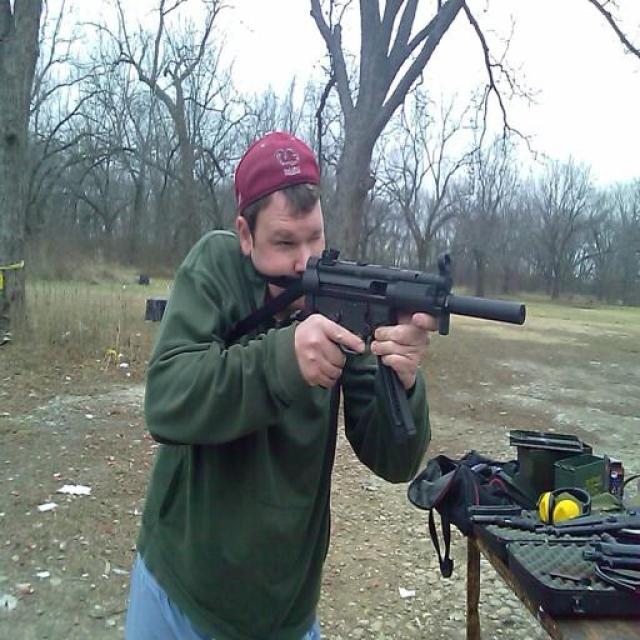pistol: (303, 246, 524, 371)
